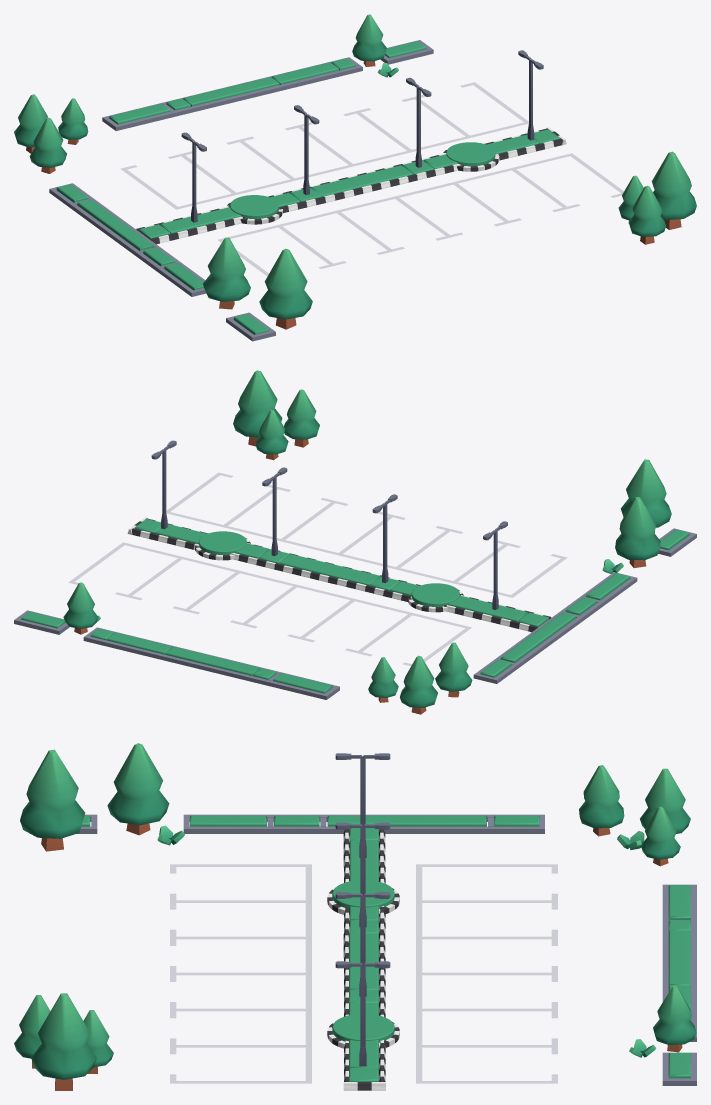
Rendered from parking.glb.
The picture shows the model from 3 angles, top to bottom: view 1: azimuth 30°, elevation 25°; view 2: azimuth 150°, elevation 25°; view 3: azimuth 270°, elevation 25°; orthographic projection. The views are drawn at different scales.
Parts seen in each view (by area): view 1: Parking.001; view 2: Parking.001; view 3: Parking.001.
Part boxes in pixels (left/top/right/bottom): Parking.001: left=14, top=14, right=696, bottom=341; Parking.001: left=14, top=370, right=696, bottom=714; Parking.001: left=14, top=743, right=696, bottom=1090.
Size of the model in its own units: 17.45 by 3.25 by 17.74.
Materials: 1 (1 with a texture image).
